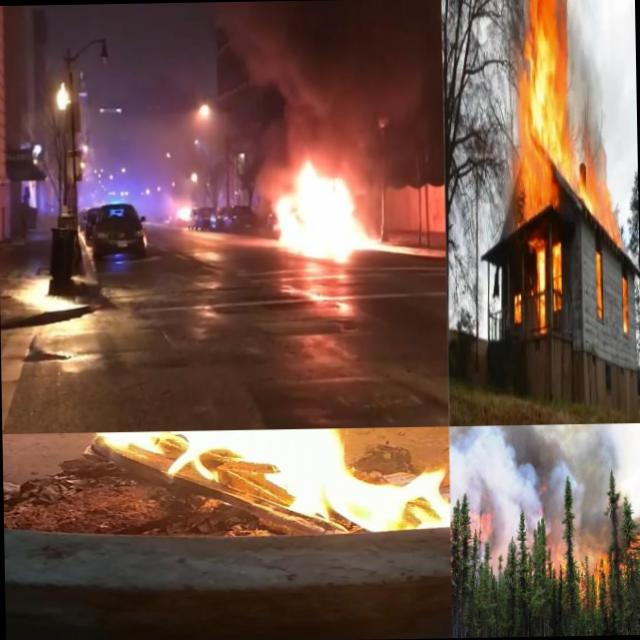fire: (66, 426, 450, 537), (515, 0, 571, 225), (273, 162, 372, 266), (578, 166, 622, 250), (576, 552, 611, 606), (530, 240, 546, 334), (468, 495, 493, 546), (544, 536, 568, 578), (594, 255, 604, 326), (621, 272, 629, 340), (628, 526, 640, 563), (512, 279, 521, 325)
smoke: (207, 0, 441, 163), (449, 424, 622, 496), (567, 0, 608, 160), (494, 494, 566, 538), (573, 494, 612, 553)
